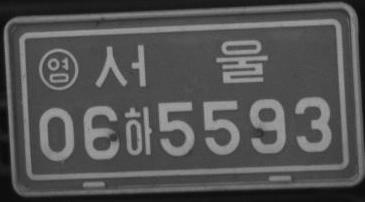0: (38, 105, 75, 162)
3: (294, 95, 333, 153)
5: (156, 100, 195, 157), (201, 99, 240, 156)
6: (82, 104, 119, 161)
9: (249, 97, 287, 154)
서울_D: (95, 38, 268, 88)
영: (38, 47, 78, 91)
하: (124, 105, 152, 156)
